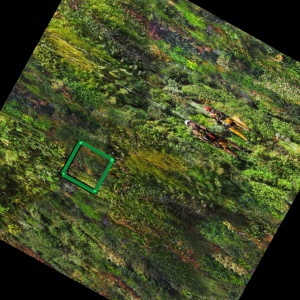square: (58, 137, 116, 196)
